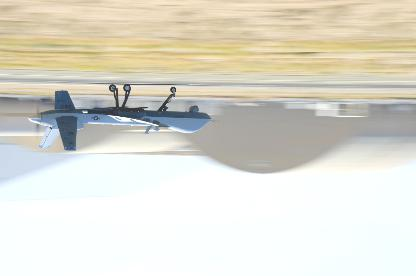MQ9: (27, 85, 221, 152)
